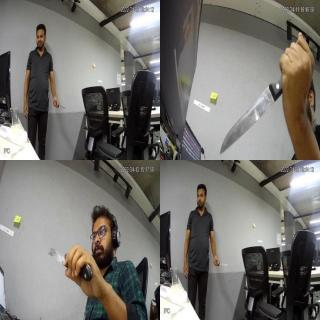knife: (219, 86, 275, 154), (47, 244, 69, 266), (56, 99, 68, 115), (216, 256, 228, 270)
